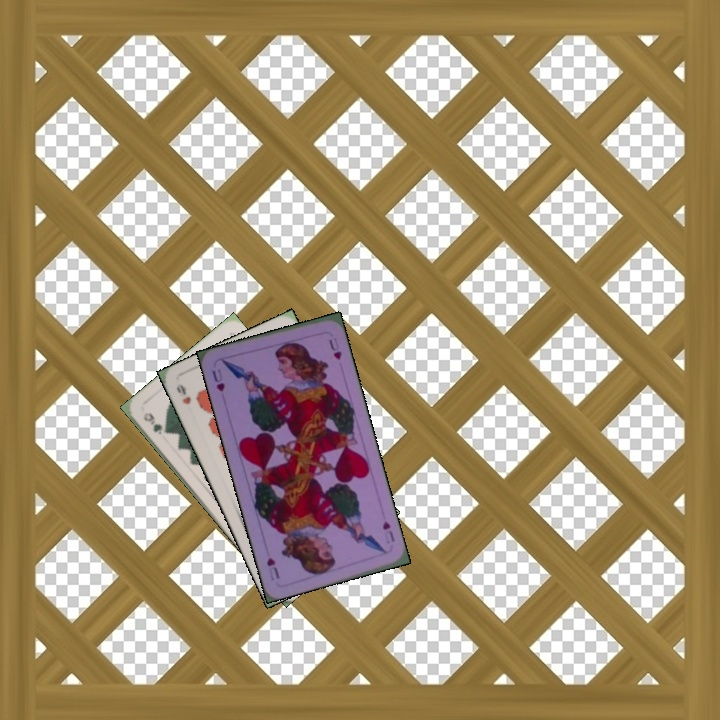G9: (139, 408, 165, 437)
H9: (172, 380, 193, 407)
HU: (208, 365, 227, 394), (378, 517, 397, 546)
